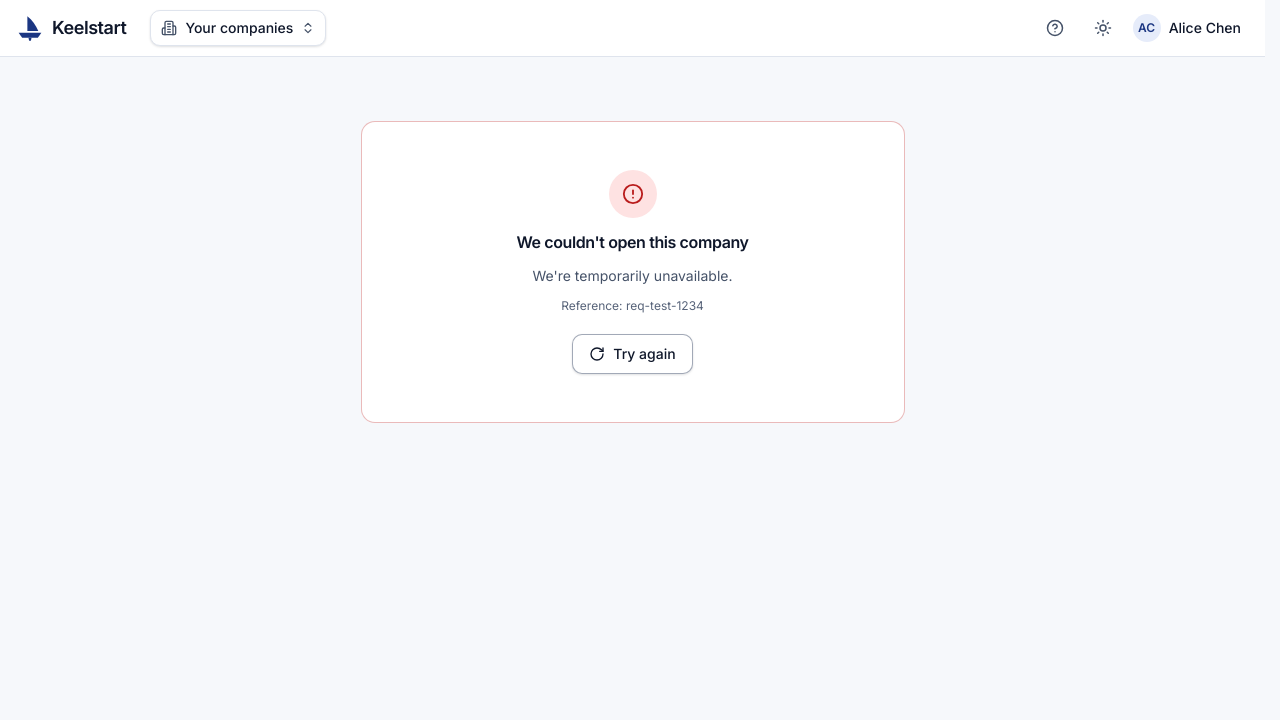
Test: workspace (ADR-0019, ADR-0035) › shows a friendly error with a retry when the company can't be loaded
Check: the heading "We couldn't open this company" is shown, box [516, 230, 748, 254]
Click the button "Try again" at x=632, y=354, box [572, 334, 693, 374]
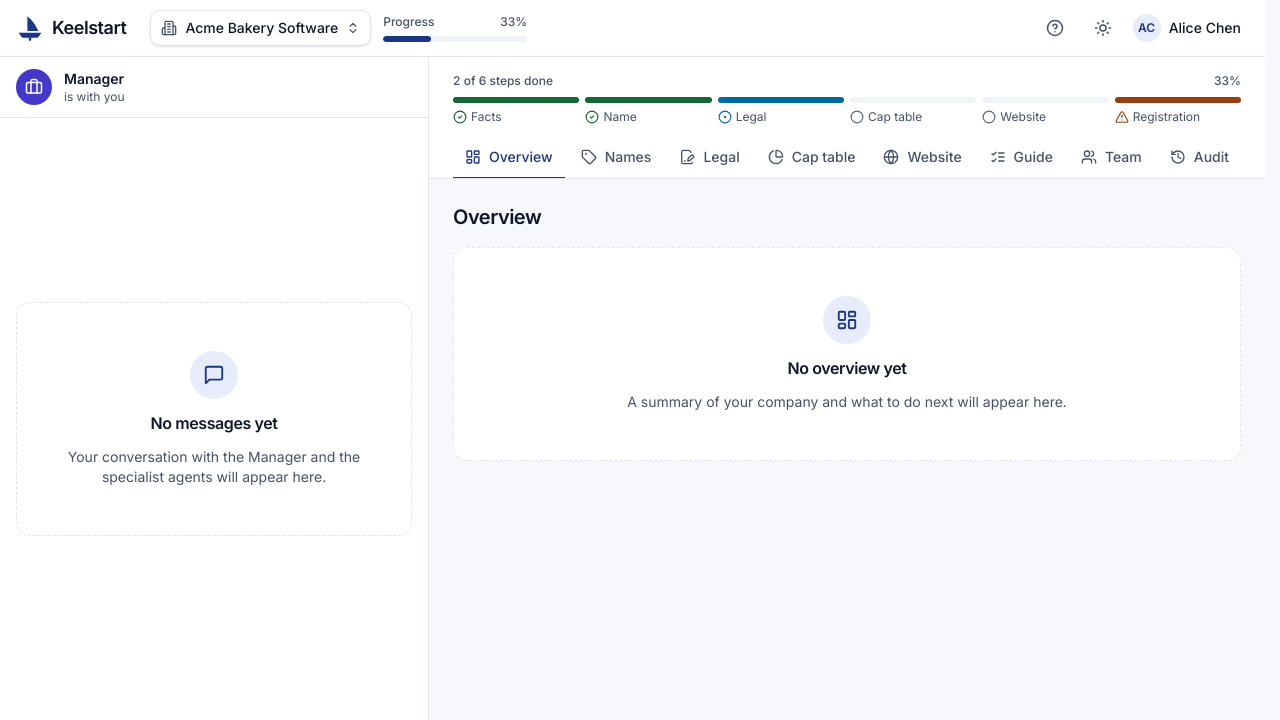
Check: the element named "Workspace views" is shown, box [429, 137, 1265, 178]
